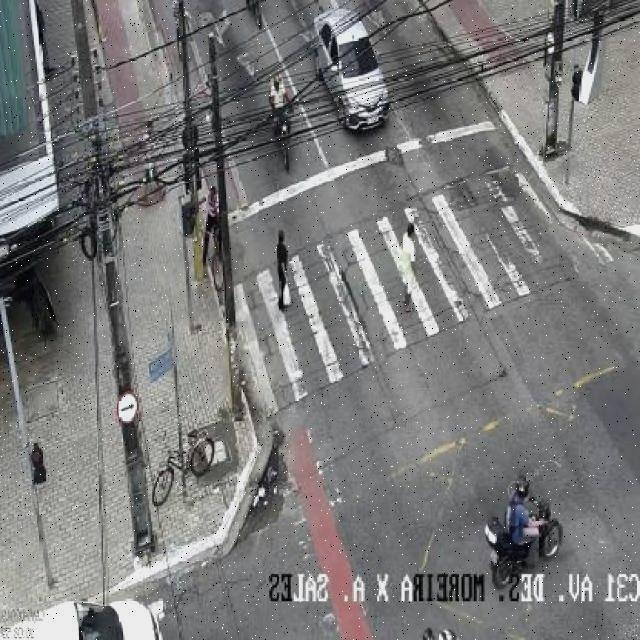Car: (312, 8, 389, 130), (0, 599, 166, 640), (152, 430, 215, 472)
Cycle: (482, 498, 564, 590)
